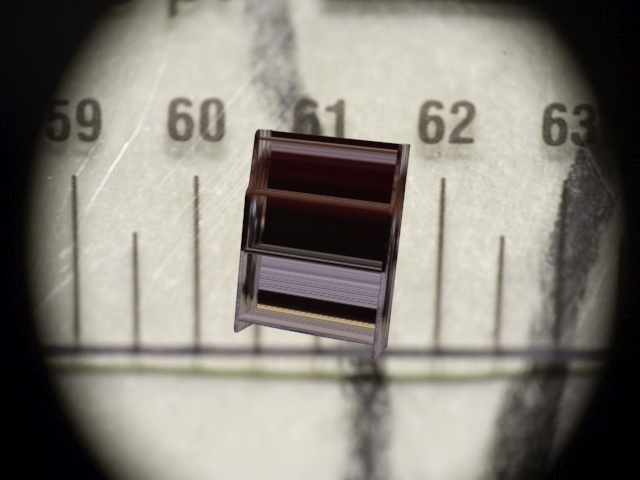bookcase: (225, 128, 416, 368)
